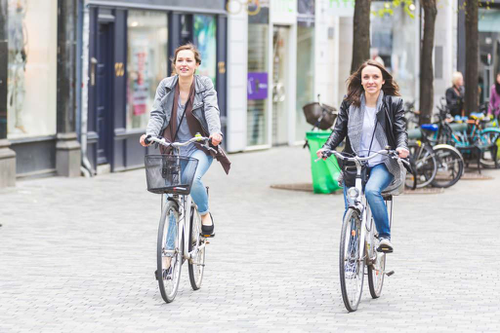bikerider: (120, 40, 250, 315), (318, 54, 420, 319)
